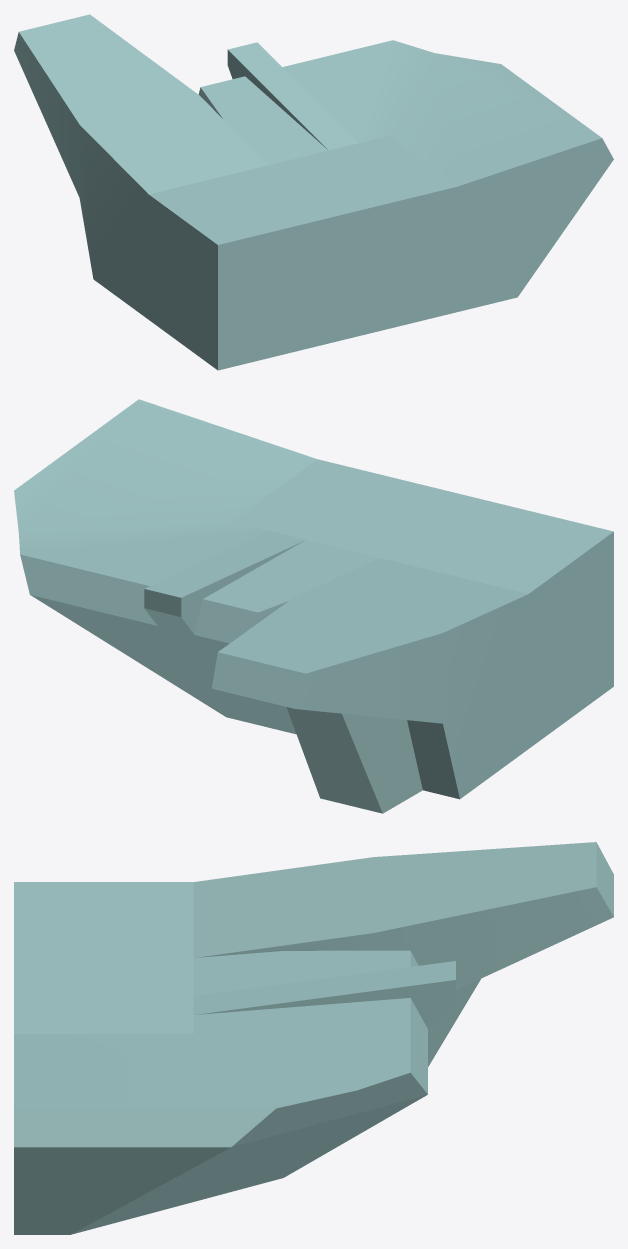
Rendered from x_kray_obriv_blue_28_mirror.fbx.
The picture shows the model from 3 angles, top to bottom: view 1: azimuth 30°, elevation 25°; view 2: azimuth 150°, elevation 25°; view 3: azimuth 270°, elevation 25°; orthographic projection. The views are drawn at different scales.
Visible parts, largest first — view 1: x_kray_obriv_blue_28_mirror1; view 2: x_kray_obriv_blue_28_mirror1; view 3: x_kray_obriv_blue_28_mirror1.
Boxes of the visible parts, <box> form: x_kray_obriv_blue_28_mirror1: <box>14,14,613,370</box>; x_kray_obriv_blue_28_mirror1: <box>14,399,613,813</box>; x_kray_obriv_blue_28_mirror1: <box>14,842,613,1234</box>.
Bounding box in the file's own units: 3.3 × 1.34 × 3.34.
